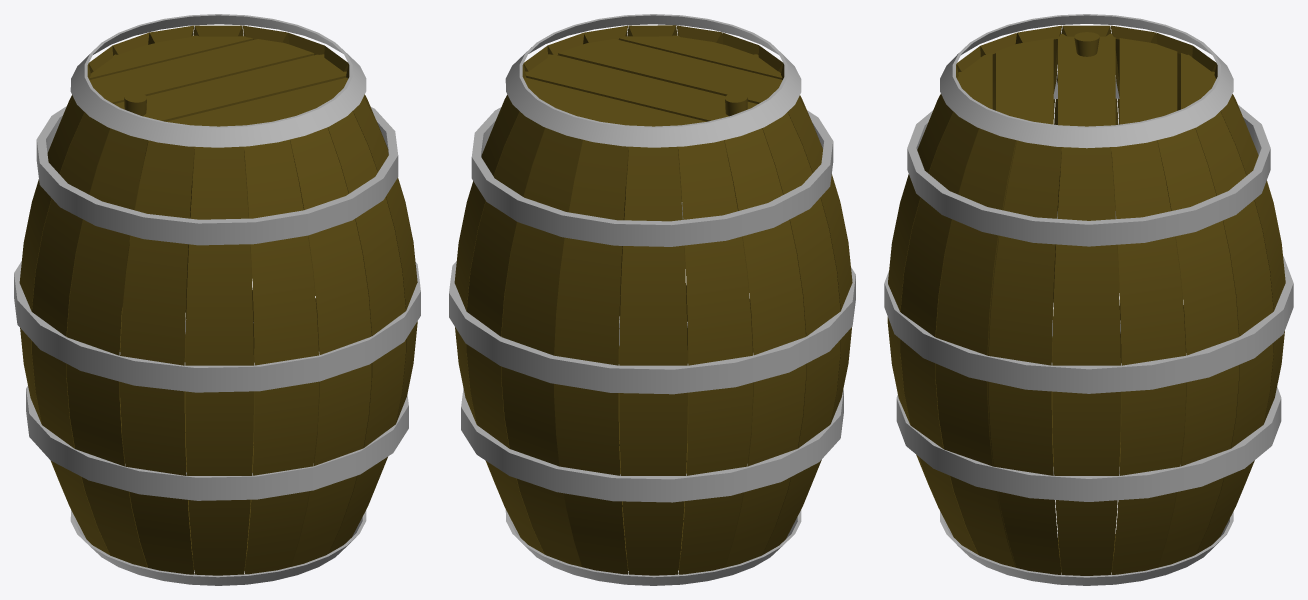
The model's file is Barrel.fbx.
3 views of the same model, side by side, from view 1: azimuth 30°, elevation 25°; view 2: azimuth 150°, elevation 25°; view 3: azimuth 270°, elevation 25° (orthographic).
Visible parts, largest first — view 1: barrel_pCube28; view 2: barrel_pCube28; view 3: barrel_pCube28.
Part boxes in pixels (box(x1,y1,x2,y2)): barrel_pCube28: box(14, 14, 420, 585); barrel_pCube28: box(449, 14, 855, 585); barrel_pCube28: box(884, 14, 1293, 585).
Bounding box in the file's own units: 7.09 × 8.76 × 7.09.
